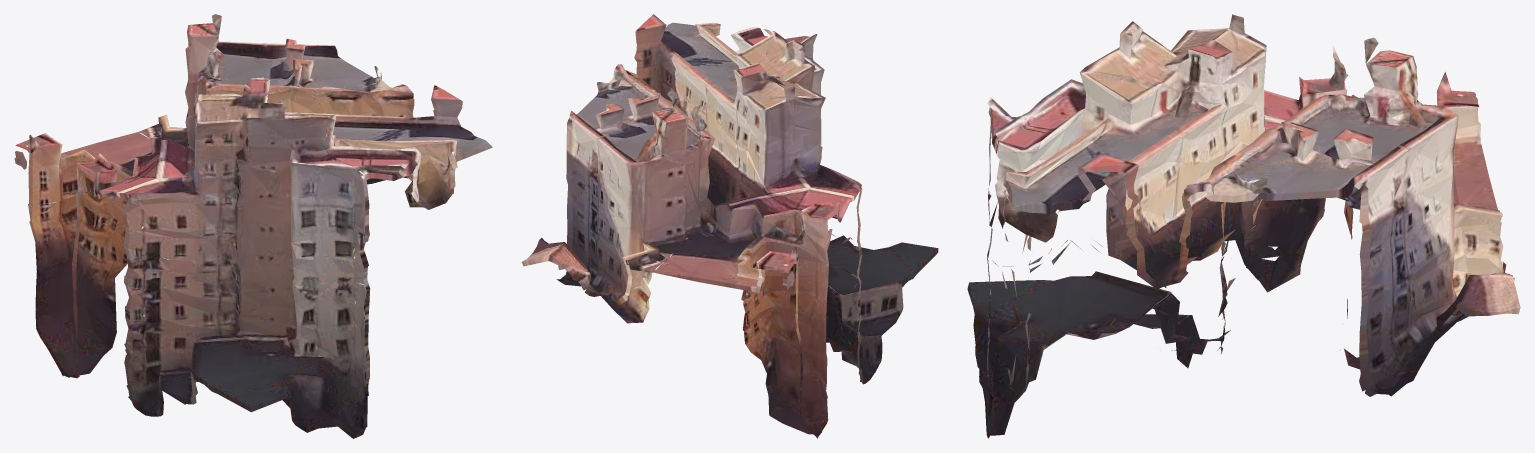
3 views of the same model, side by side, from view 1: azimuth 30°, elevation 25°; view 2: azimuth 150°, elevation 25°; view 3: azimuth 270°, elevation 25° (orthographic). The views are drawn at different scales.
Parts seen in each view (by area): view 1: Mesh_0; view 2: Mesh_0; view 3: Mesh_0.
Boxes of the visible parts, x1=… form: Mesh_0: x1=14, y1=14, x2=492, y2=438; Mesh_0: x1=521, y1=14, x2=938, y2=438; Mesh_0: x1=967, y1=14, x2=1520, y2=438.
Size of the model in its own units: 33.45 by 34.7 by 41.39.
Materials: 1 (1 with a texture image).
